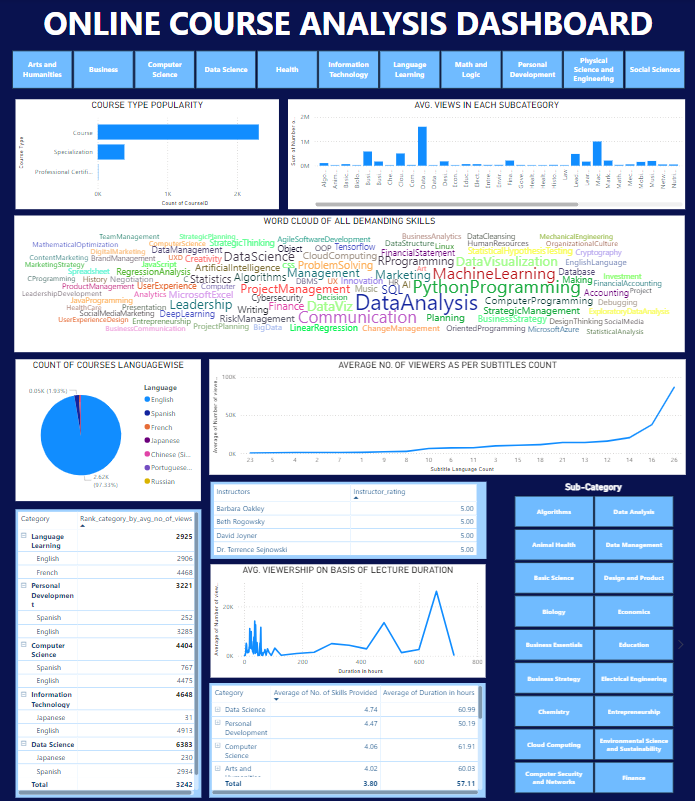

This screenshot's page, from the dashboard's own definition file:
{"tool":"powerbi","page":{"name":"Page 1","canvas":[1300,1500],"ordinal":0},"visuals":[{"type":"textbox","box":[0,0,1298.6,90],"z":0},{"type":"slicer","title":"CATEGORY","fields":{"Values":["Online_Courses.Category"]},"box":[0,90,1298.6,84.3],"z":1000},{"type":"barChart","title":"COURSE TYPE POPULARITY","fields":{"Category":["Online_Courses.Course Type"],"Y":["Online_Courses.CourseID"]},"box":[31.4,188.6,488.6,204.3],"z":2000},{"type":"columnChart","title":"AVG. VIEWS IN EACH SUBCATEGORY","fields":{"Category":["Online_Courses.Sub-Category","Online_Courses.Language"],"Y":["Online_Courses.Number of viewers"]},"box":[537.1,188.6,737.1,204.3],"z":3000},{"type":"WordCloud1447959067750","title":"WORD CLOUD OF ALL  DEMANDING SKILLS","fields":{"Category":["Online_Courses.Skills"]},"box":[31.2,402.5,1243.8,253.8],"z":4000},{"type":"pieChart","title":"COUNT OF COURSES LANGUAGEWISE","fields":{"Category":["Online_Courses.Language"],"Y":["Online_Courses.CourseID"]},"box":[32.9,670,344.3,262.9],"z":5000},{"type":"pivotTable","fields":{"Rows":["Online_Courses.Category","Online_Courses.Language"],"Values":["Online_Courses.Rank_category_by_avg_no_of_views"]},"box":[32.5,947.5,345,535],"z":6000},{"type":"lineChart","title":"AVERAGE NO. OF VIEWERS AS PER SUBTITLES COUNT","fields":{"Category":["Online_Courses.Subtitle Language Count"],"Y":["Online_Courses.Number of viewers"]},"box":[391.4,670,884.3,214.3],"z":7000},{"type":"tableEx","fields":{"Values":["Teachers.Instructors","Teachers.Instructor_rating"]},"box":[393.3,898.3,511.7,143.3],"z":8000},{"type":"slicer","title":"Sub-Category","fields":{"Values":["Teachers.Sub-Category"]},"box":[932.5,897.5,345,585],"z":9000},{"type":"lineChart","title":"AVG. VIEWERSHIP ON BASIS OF LECTURE DURATION","fields":{"Category":["Online_Courses.Duration in hours"],"Y":["Online_Courses.Number of viewers"]},"box":[395,1051.7,510,210],"z":10000},{"type":"pivotTable","fields":{"Rows":["Online_Courses.Category","Online_Courses.Sub-Category"],"Values":["Online_Courses.No. of Skills Provided","Online_Courses.Duration in hours"]},"box":[392.5,1270,512.5,212.5],"z":11000}]}

Visuals, with their boxes in screenshot pixels (x1, y1, x2, y2), scaled from the page's 1300x1500 canvas onto the 695x801 screenshot:
textbox: [0,0,694,48]
"CATEGORY" slicer: [0,48,694,93]
"COURSE TYPE POPULARITY" barChart: [17,101,278,210]
"AVG. VIEWS IN EACH SUBCATEGORY" columnChart: [287,101,681,210]
"WORD CLOUD OF ALL  DEMANDING SKILLS" WordCloud1447959067750: [17,215,682,350]
"COUNT OF COURSES LANGUAGEWISE" pieChart: [18,358,202,498]
pivotTable - Online_Courses.Category x Online_Courses.Language: [17,506,202,792]
"AVERAGE NO. OF VIEWERS AS PER SUBTITLES COUNT" lineChart: [209,358,682,472]
tableEx - Teachers.Instructors x Teachers.Instructor_rating: [210,480,484,556]
"Sub-Category" slicer: [499,479,683,792]
"AVG. VIEWERSHIP ON BASIS OF LECTURE DURATION" lineChart: [211,562,484,674]
pivotTable - Online_Courses.Category x Online_Courses.Sub-Category: [210,678,484,792]
